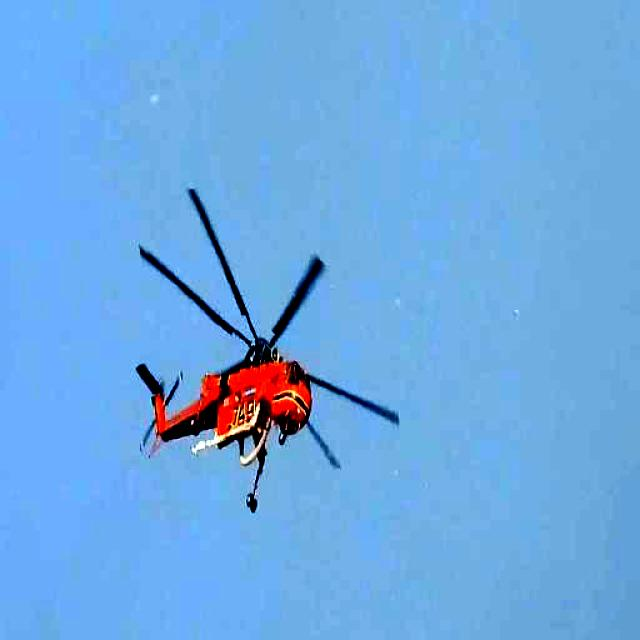drone: (105, 181, 400, 539)
